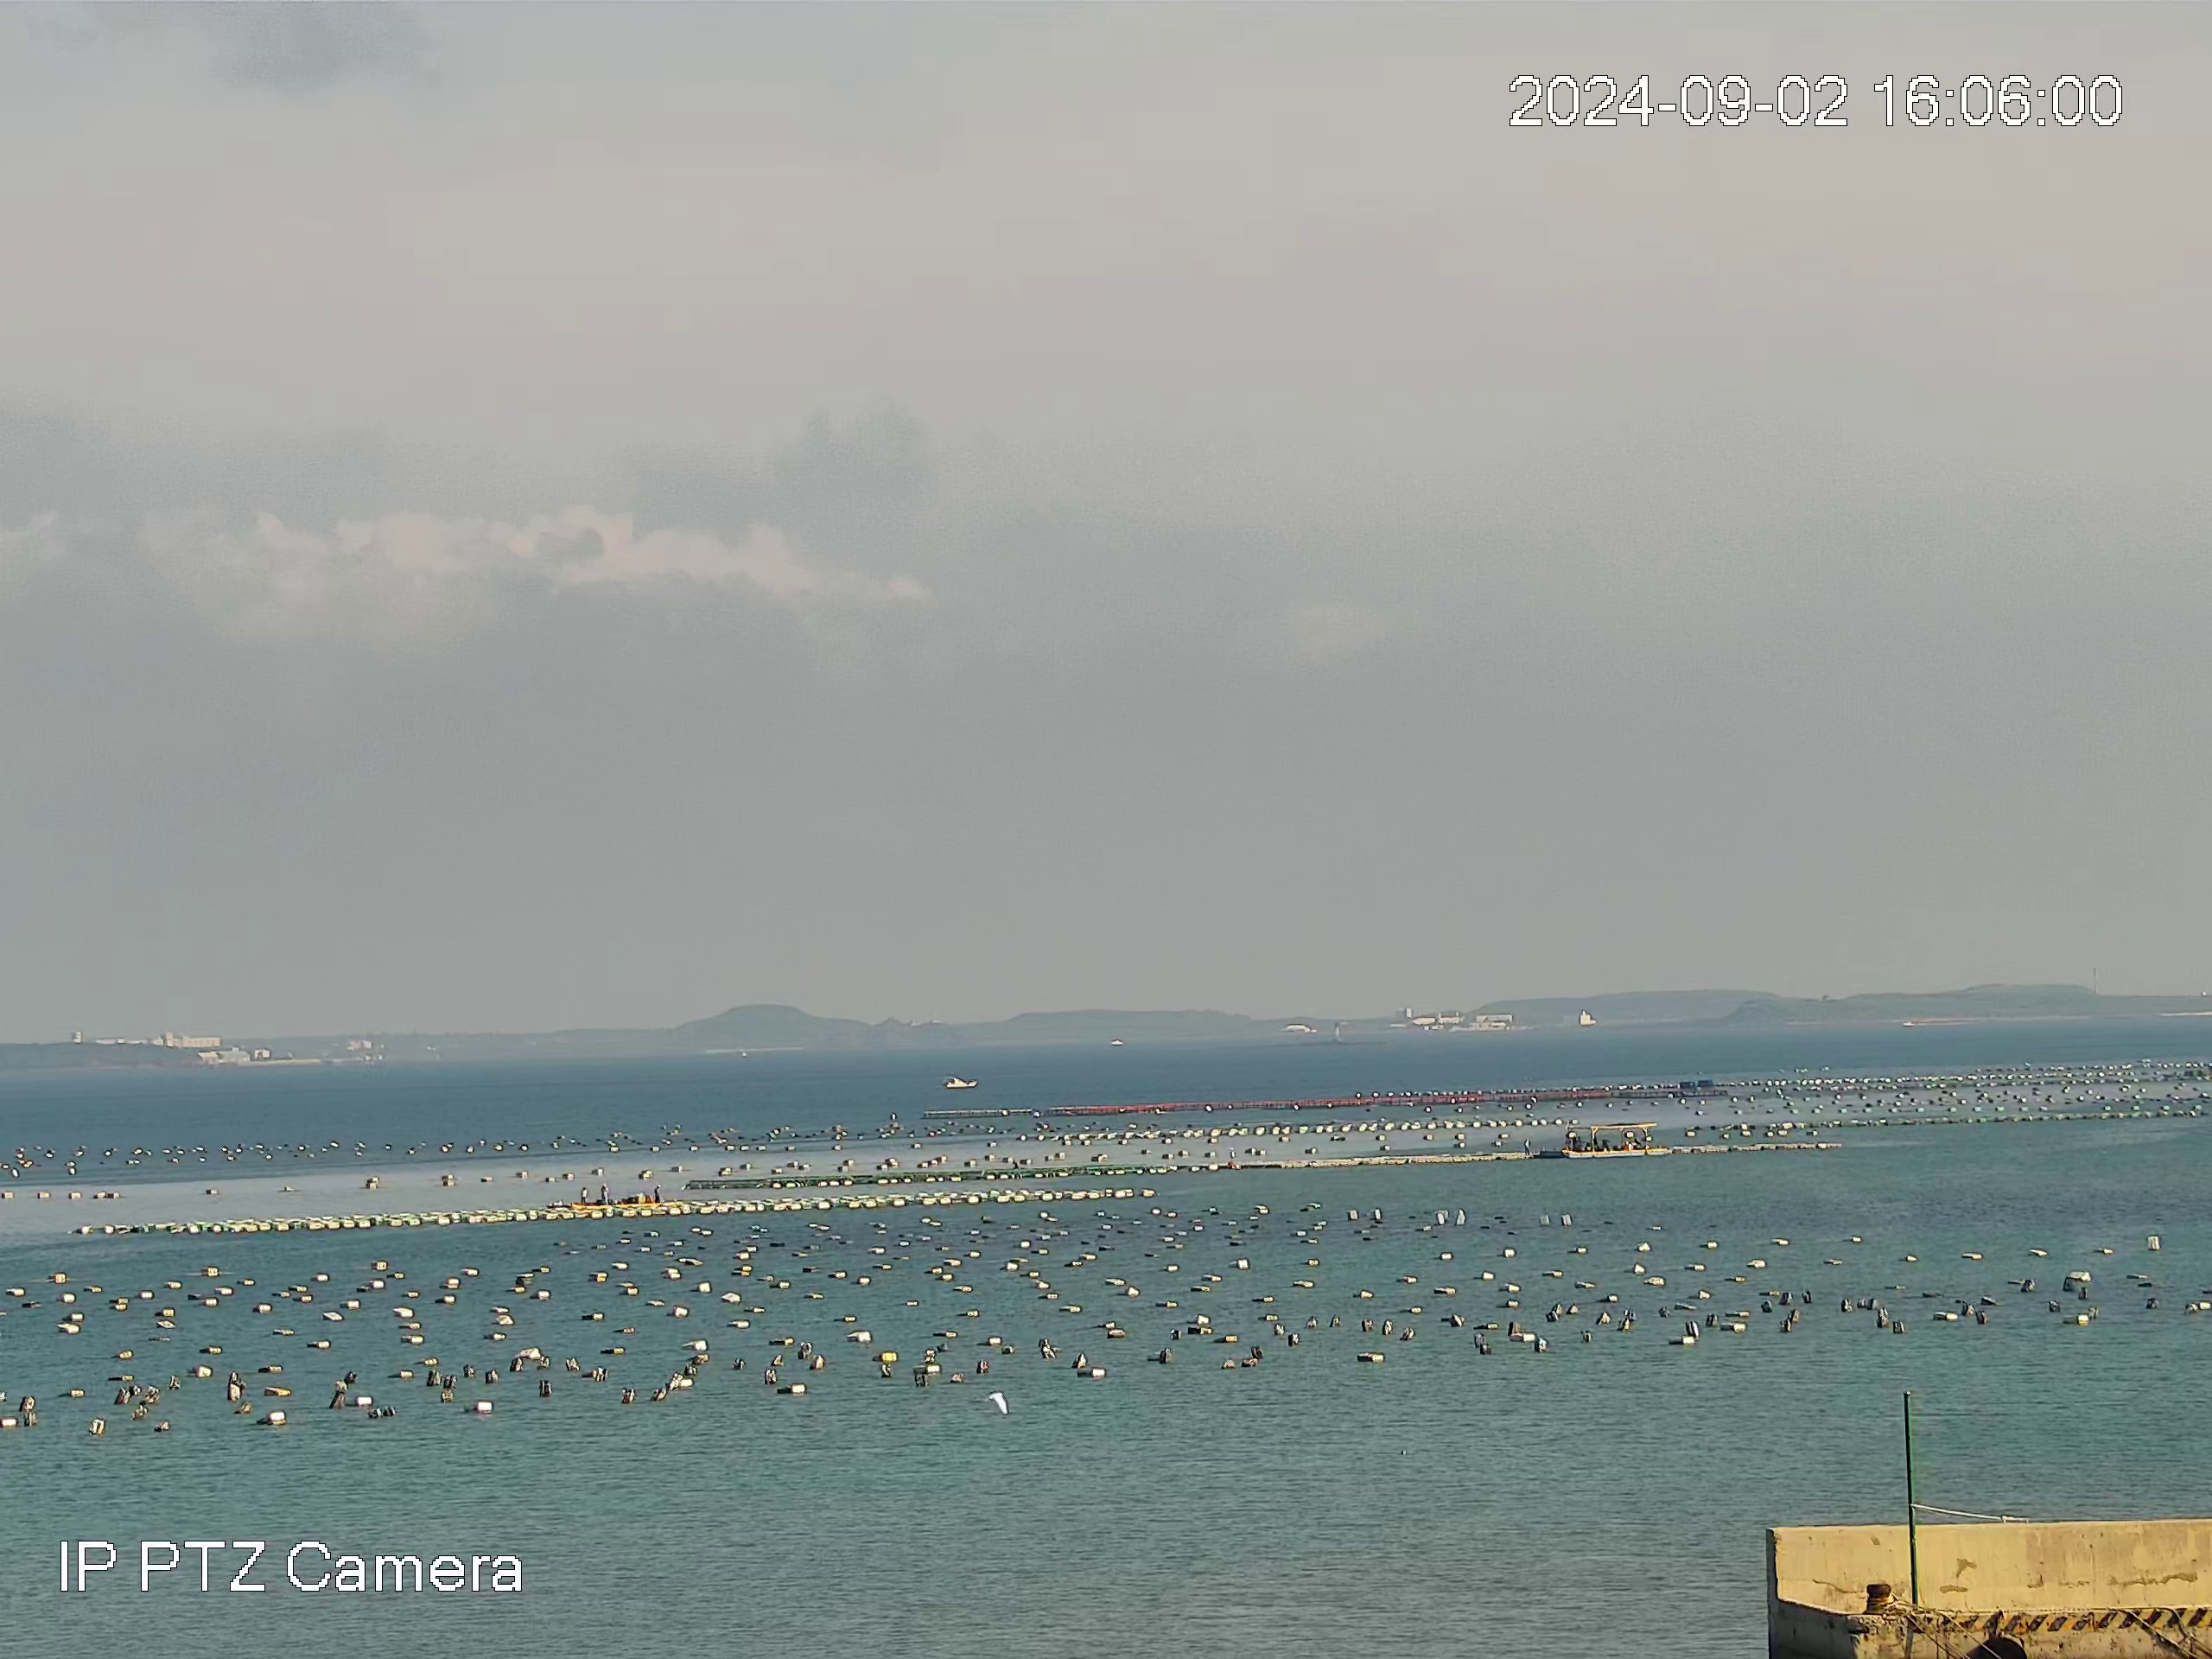boat: (1560, 1122, 1669, 1160), (569, 1182, 665, 1210), (944, 1074, 979, 1090)
